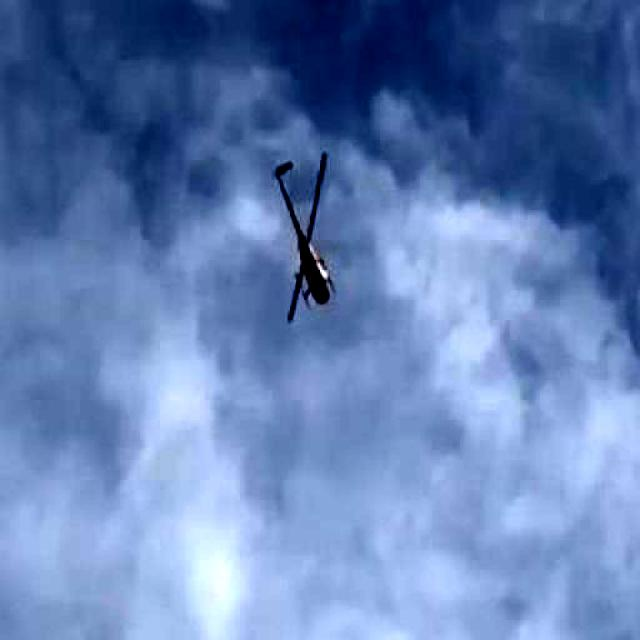drone: (210, 94, 394, 320)
